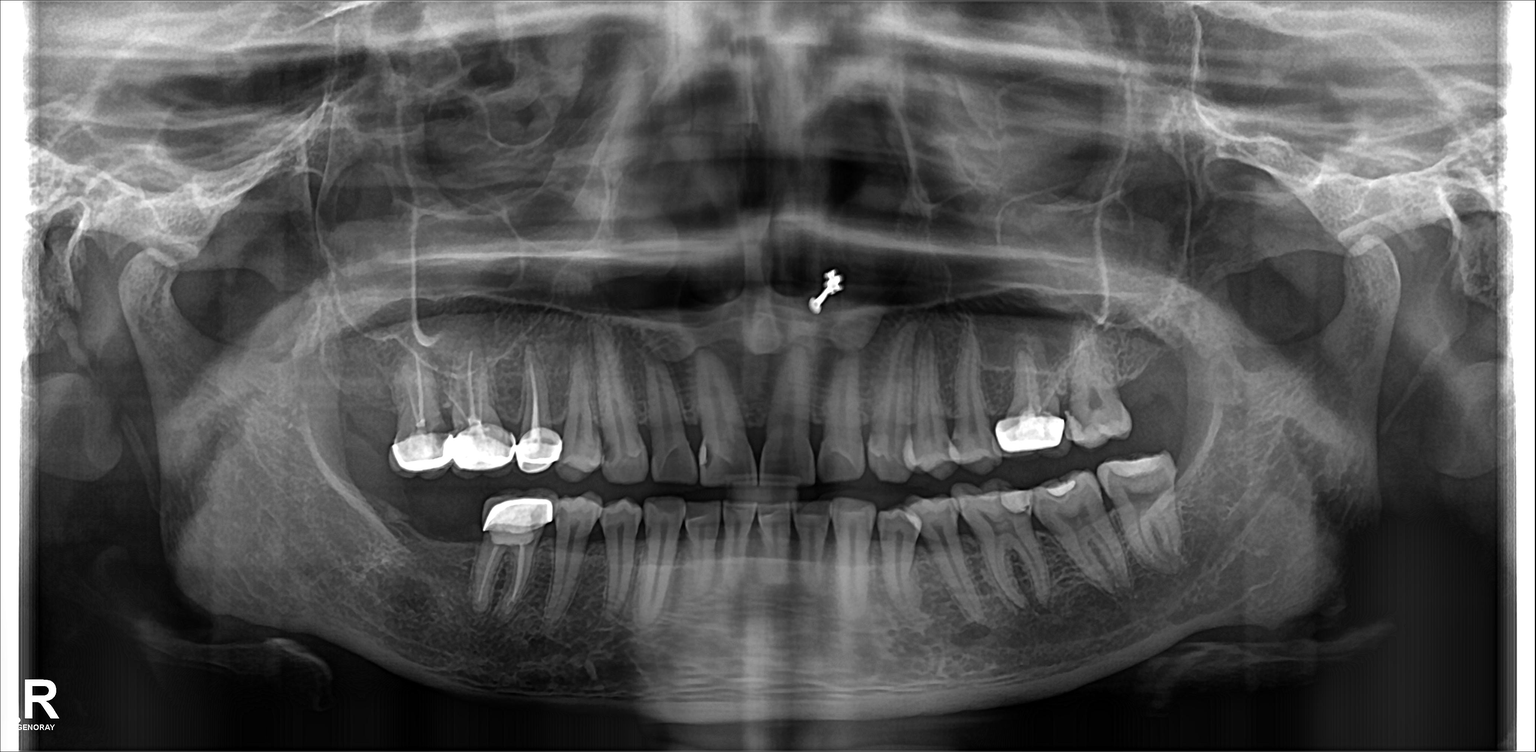Endodontically Treated Tooth: (484, 501, 544, 611), (991, 348, 1055, 447), (387, 365, 444, 469), (454, 348, 505, 456), (520, 352, 562, 463)
Missing Tooth: (330, 357, 386, 448), (1117, 337, 1164, 432), (359, 478, 408, 569), (425, 490, 469, 584)
